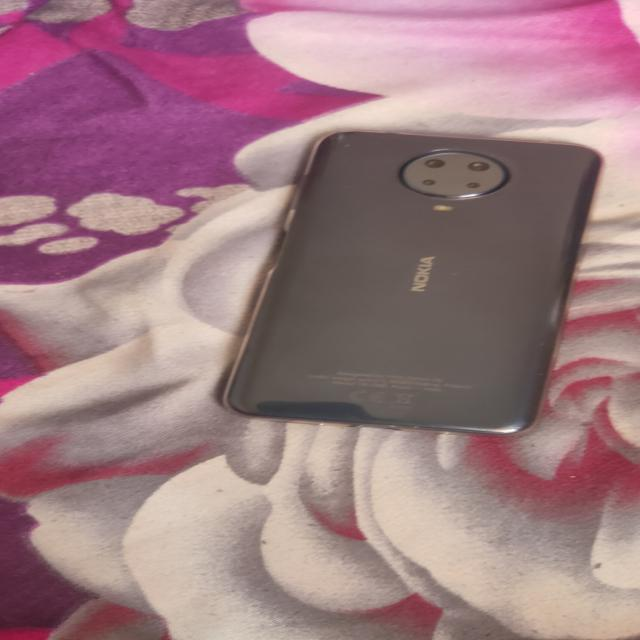Phone: (212, 122, 614, 441)
